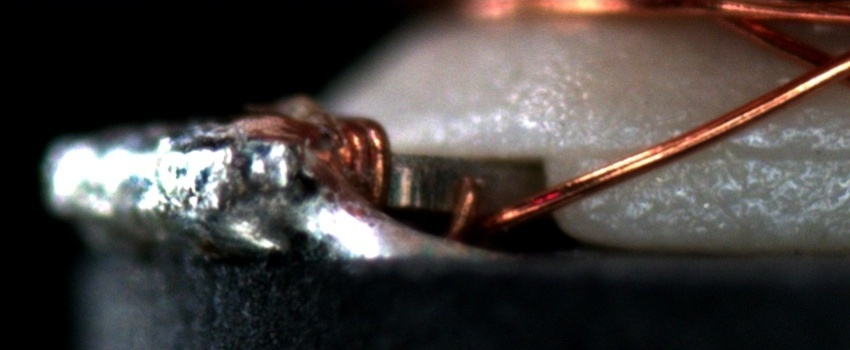CL: (785, 39, 848, 91)
DL: (585, 125, 849, 182)
TE: (327, 109, 486, 240)
